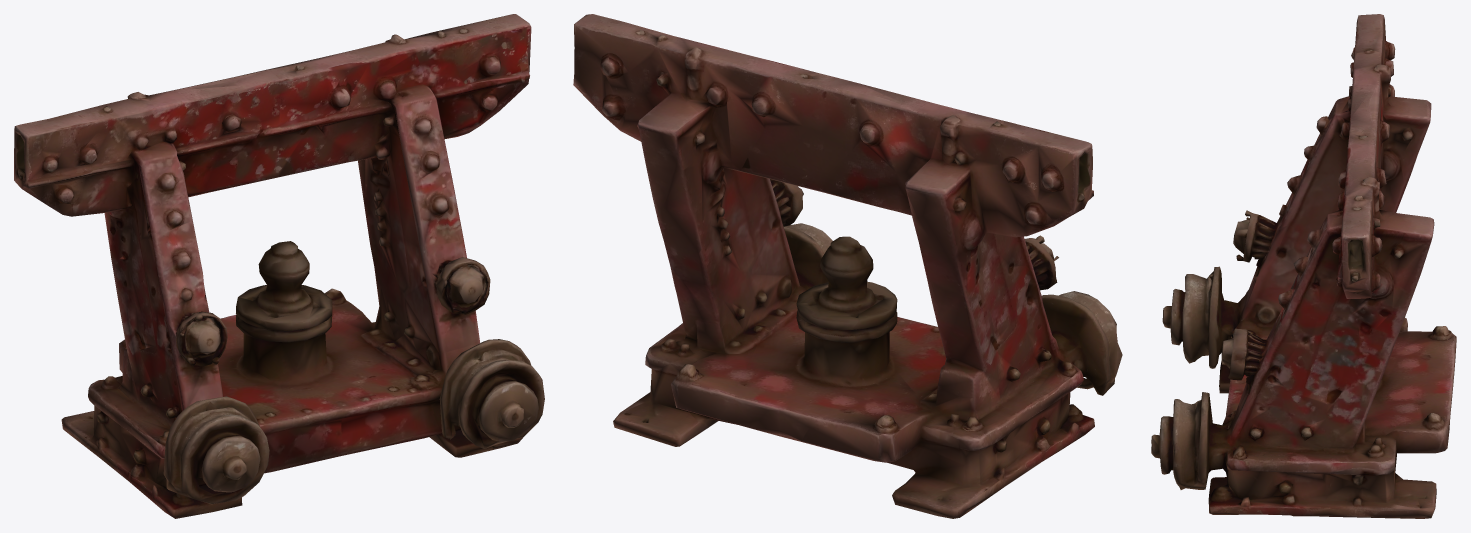
File: buffer_stop.glb
The picture shows the model from 3 angles, left to right: view 1: azimuth 30°, elevation 25°; view 2: azimuth 150°, elevation 25°; view 3: azimuth 270°, elevation 25°; orthographic projection. The views are drawn at different scales.
Parts seen in each view (by area): view 1: buffer_stop; view 2: buffer_stop; view 3: buffer_stop.
Part boxes in pixels (x1=…): buffer_stop: x1=14, y1=14, x2=544, y2=518; buffer_stop: x1=573, y1=14, x2=1122, y2=518; buffer_stop: x1=1151, y1=14, x2=1456, y2=518.
Bounding box in the file's own units: 3.19 × 2.17 × 1.86.
Materials: 1 (1 with a texture image).
